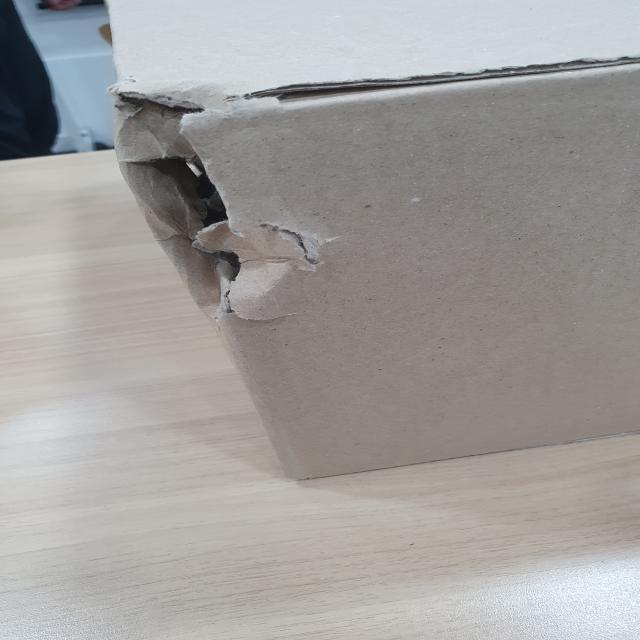hole: (116, 83, 324, 314)
